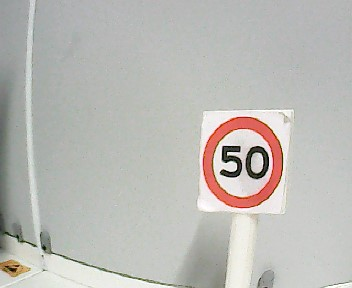50-bord: (201, 116, 284, 209)
